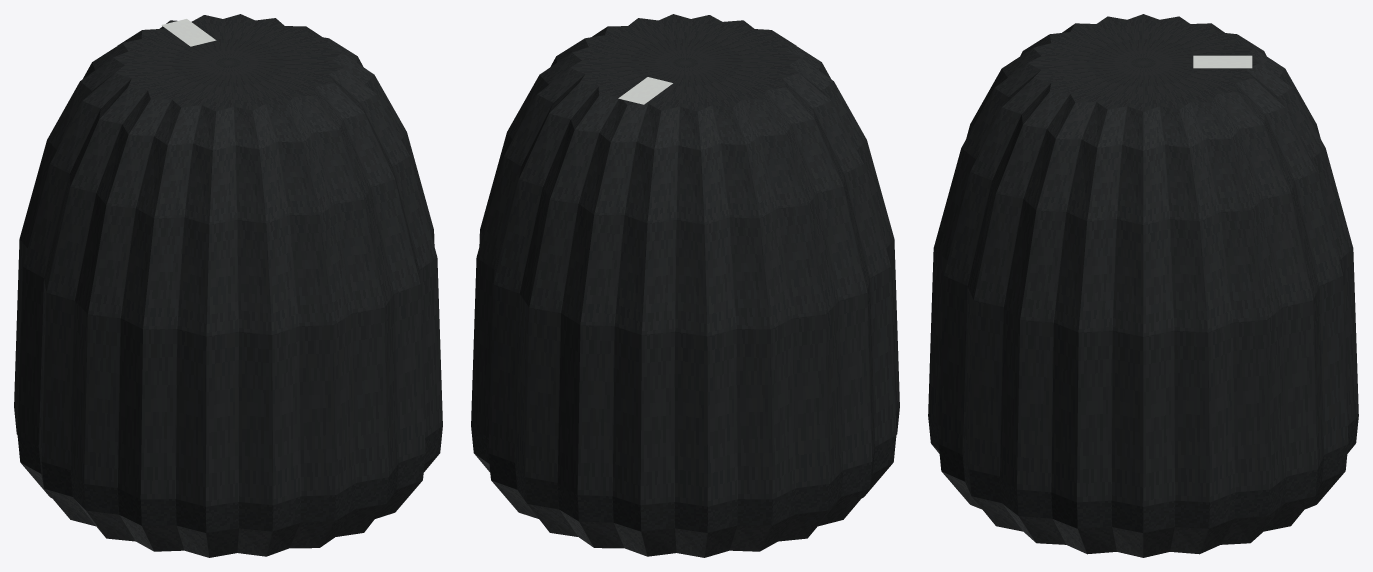
File: knob_full.obj
The picture shows the model from 3 angles, left to right: view 1: azimuth 30°, elevation 25°; view 2: azimuth 150°, elevation 25°; view 3: azimuth 270°, elevation 25°; orthographic projection.
Parts seen in each view (by area): view 1: pedal; view 2: pedal; view 3: pedal.
Part boxes in pixels (bbox=[...]): pedal: bbox=[14, 14, 442, 557]; pedal: bbox=[471, 14, 899, 557]; pedal: bbox=[928, 14, 1358, 557].
Size of the model in its own units: 0.0975 by 0.1046 by 0.0975.
